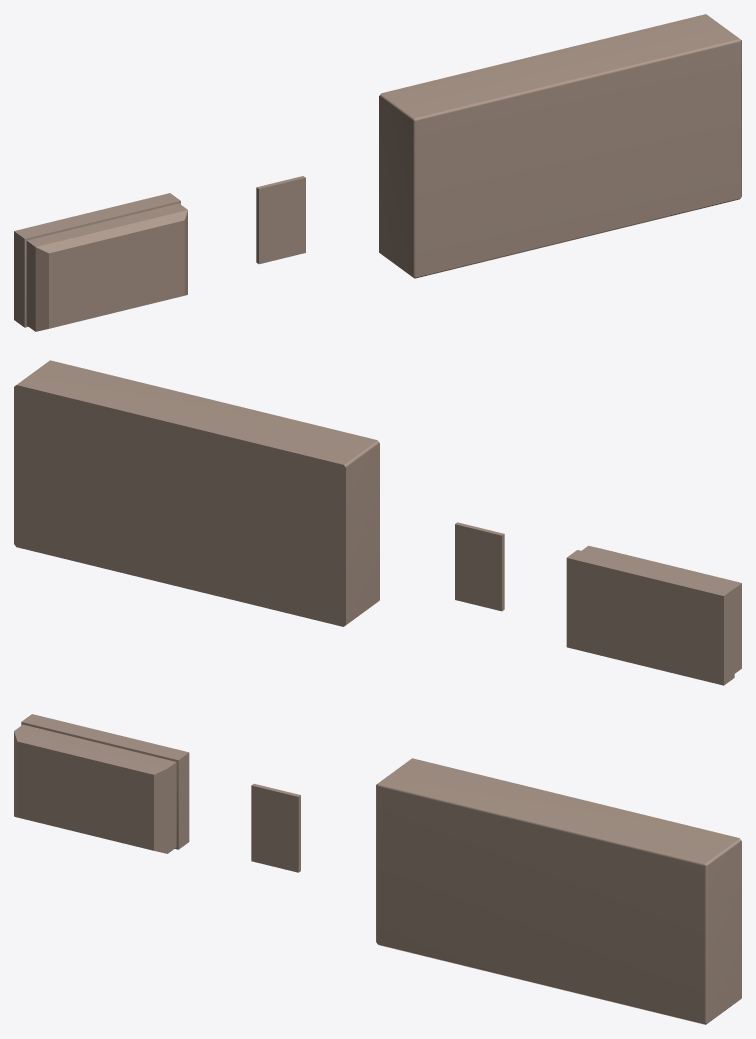
Rendered from SM_FbAddons_01.fbx.
The picture shows the model from 3 angles, top to bottom: view 1: azimuth 30°, elevation 25°; view 2: azimuth 150°, elevation 25°; view 3: azimuth 330°, elevation 25°; orthographic projection.
Parts seen in each view (by area): view 1: SM_MailBoxes_01, SM_BuildingSign_01, SM_Intercom_01; view 2: SM_MailBoxes_01, SM_BuildingSign_01, SM_Intercom_01; view 3: SM_MailBoxes_01, SM_BuildingSign_01, SM_Intercom_01.
Boxes of the visible parts, x1,y1,x2,y2 form: SM_MailBoxes_01: [379, 14, 741, 278]; SM_BuildingSign_01: [14, 193, 187, 331]; SM_Intercom_01: [256, 176, 305, 264]; SM_MailBoxes_01: [14, 360, 379, 626]; SM_BuildingSign_01: [566, 545, 741, 685]; SM_Intercom_01: [455, 522, 504, 611]; SM_MailBoxes_01: [376, 758, 741, 1024]; SM_BuildingSign_01: [14, 714, 189, 853]; SM_Intercom_01: [251, 783, 300, 872].
Size of the model in its own units: 491 by 108 by 42.4.
